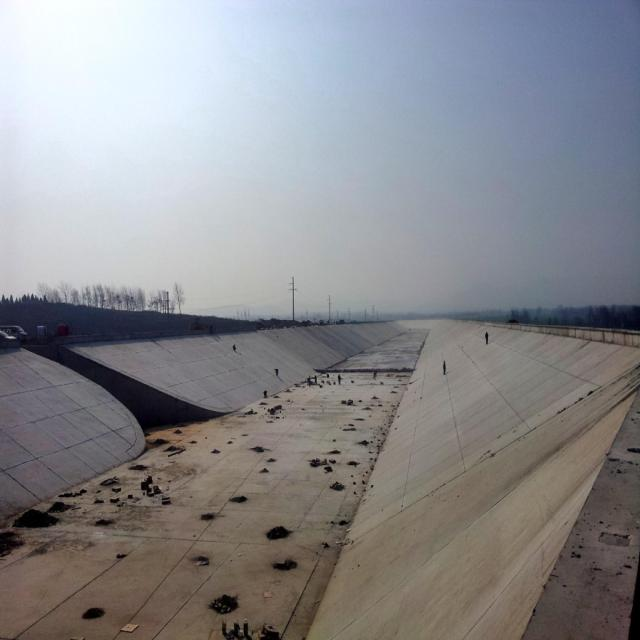machinery: (188, 317, 208, 329)
